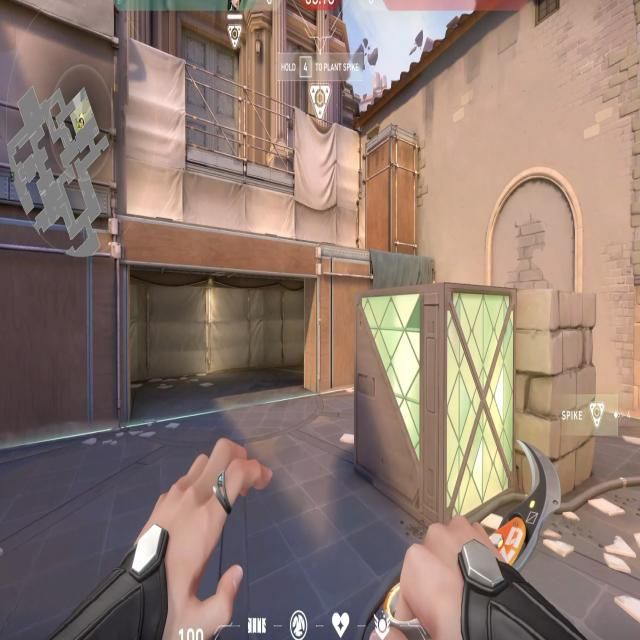A_Heaven_Box: (363, 116, 422, 255)
A_Heaven_Wall: (0, 0, 129, 210)
A_Hell: (79, 220, 341, 409)
A_Site_Box: (352, 288, 608, 517)
